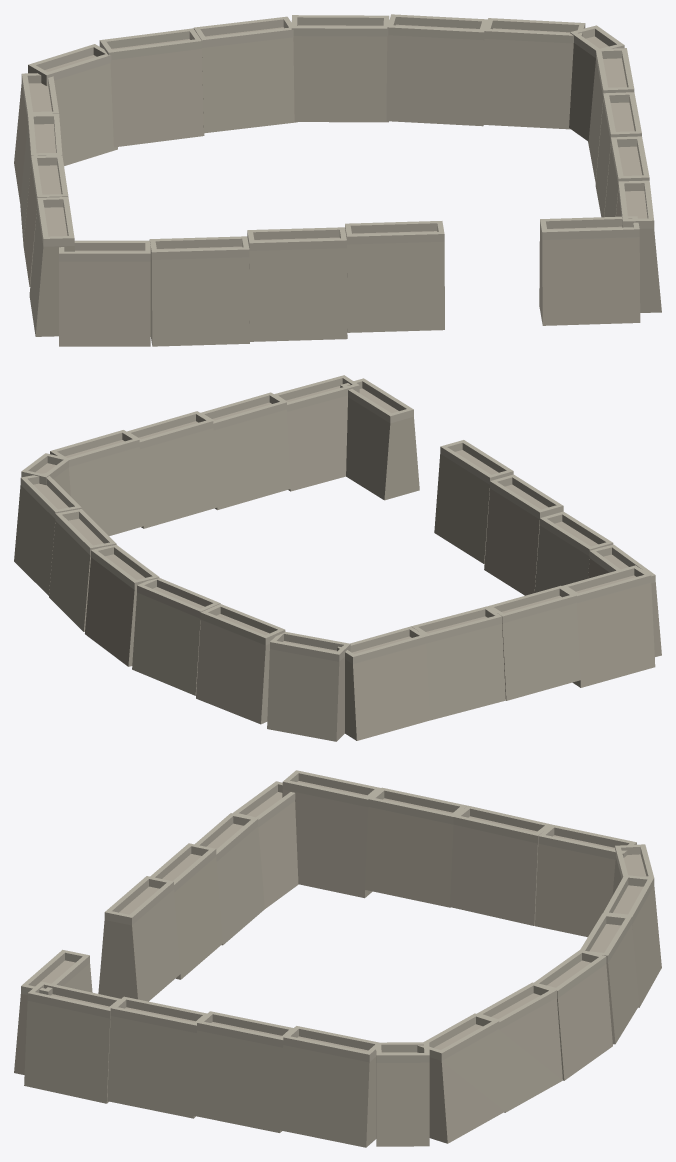
File: kalkara_66_22_collision.glb
3 views of the same model, one above another, from view 1: azimuth 30°, elevation 25°; view 2: azimuth 150°, elevation 25°; view 3: azimuth 270°, elevation 25° (orthographic). The views are drawn at different scales.
Parts seen in each view (by area): view 1: geometry_0; view 2: geometry_0; view 3: geometry_0.
Part boxes in pixels (x1=…): geometry_0: x1=14, y1=14, x2=661, y2=346; geometry_0: x1=14, y1=375, x2=661, y2=741; geometry_0: x1=14, y1=770, x2=661, y2=1147.
Bounding box in the file's own units: 93.93 × 15.57 × 84.85.
